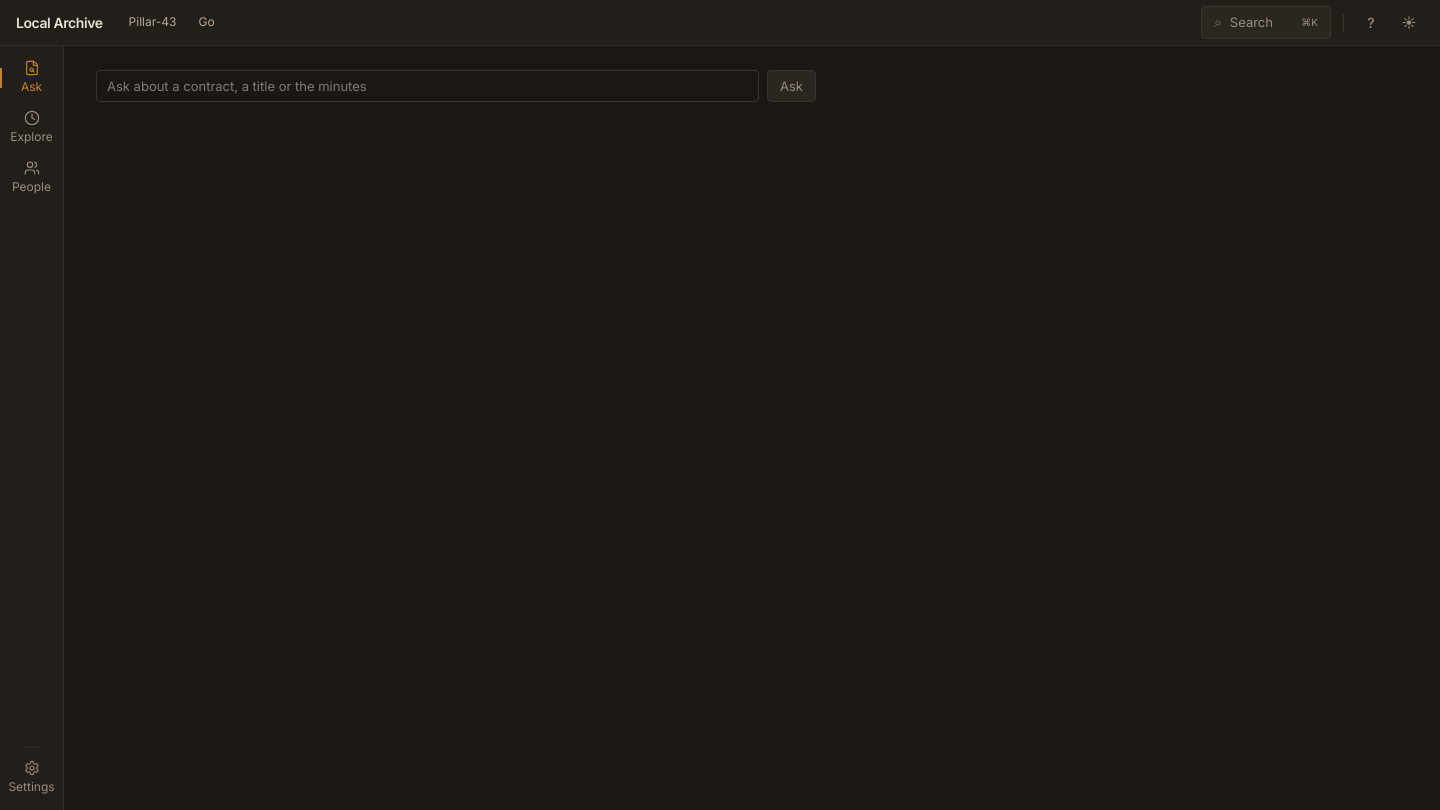
Test case: App layout › opens search palette on search button click
This screenshot has width=1440, height=810.
Click the button with test id "search-btn": (1266, 22) [1201,6,1331,38]
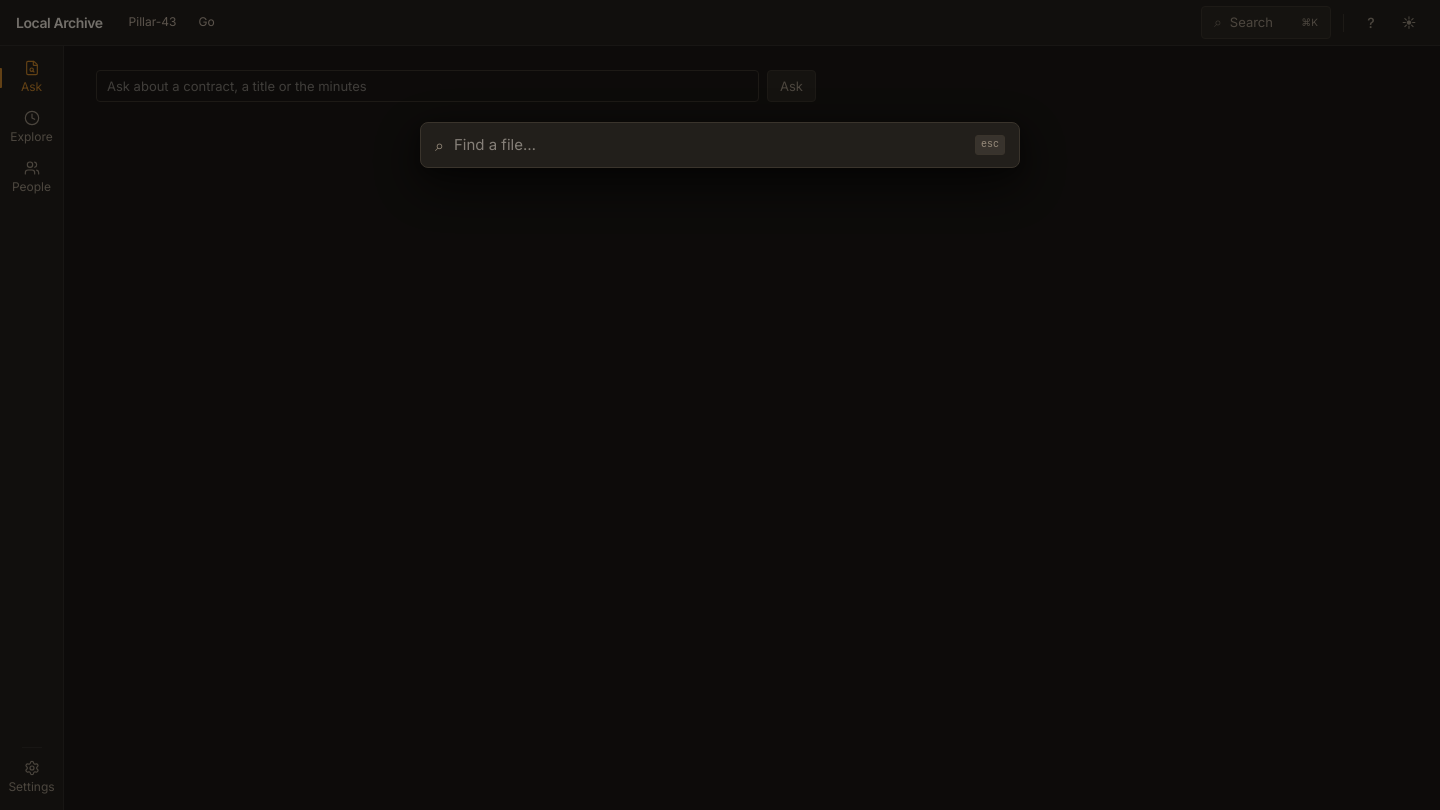
Check: the element with test id "search-palette" is shown
